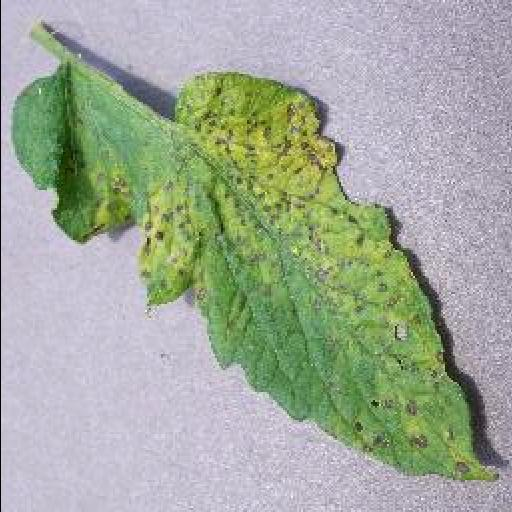disease_tomato: (12, 70, 498, 484)
